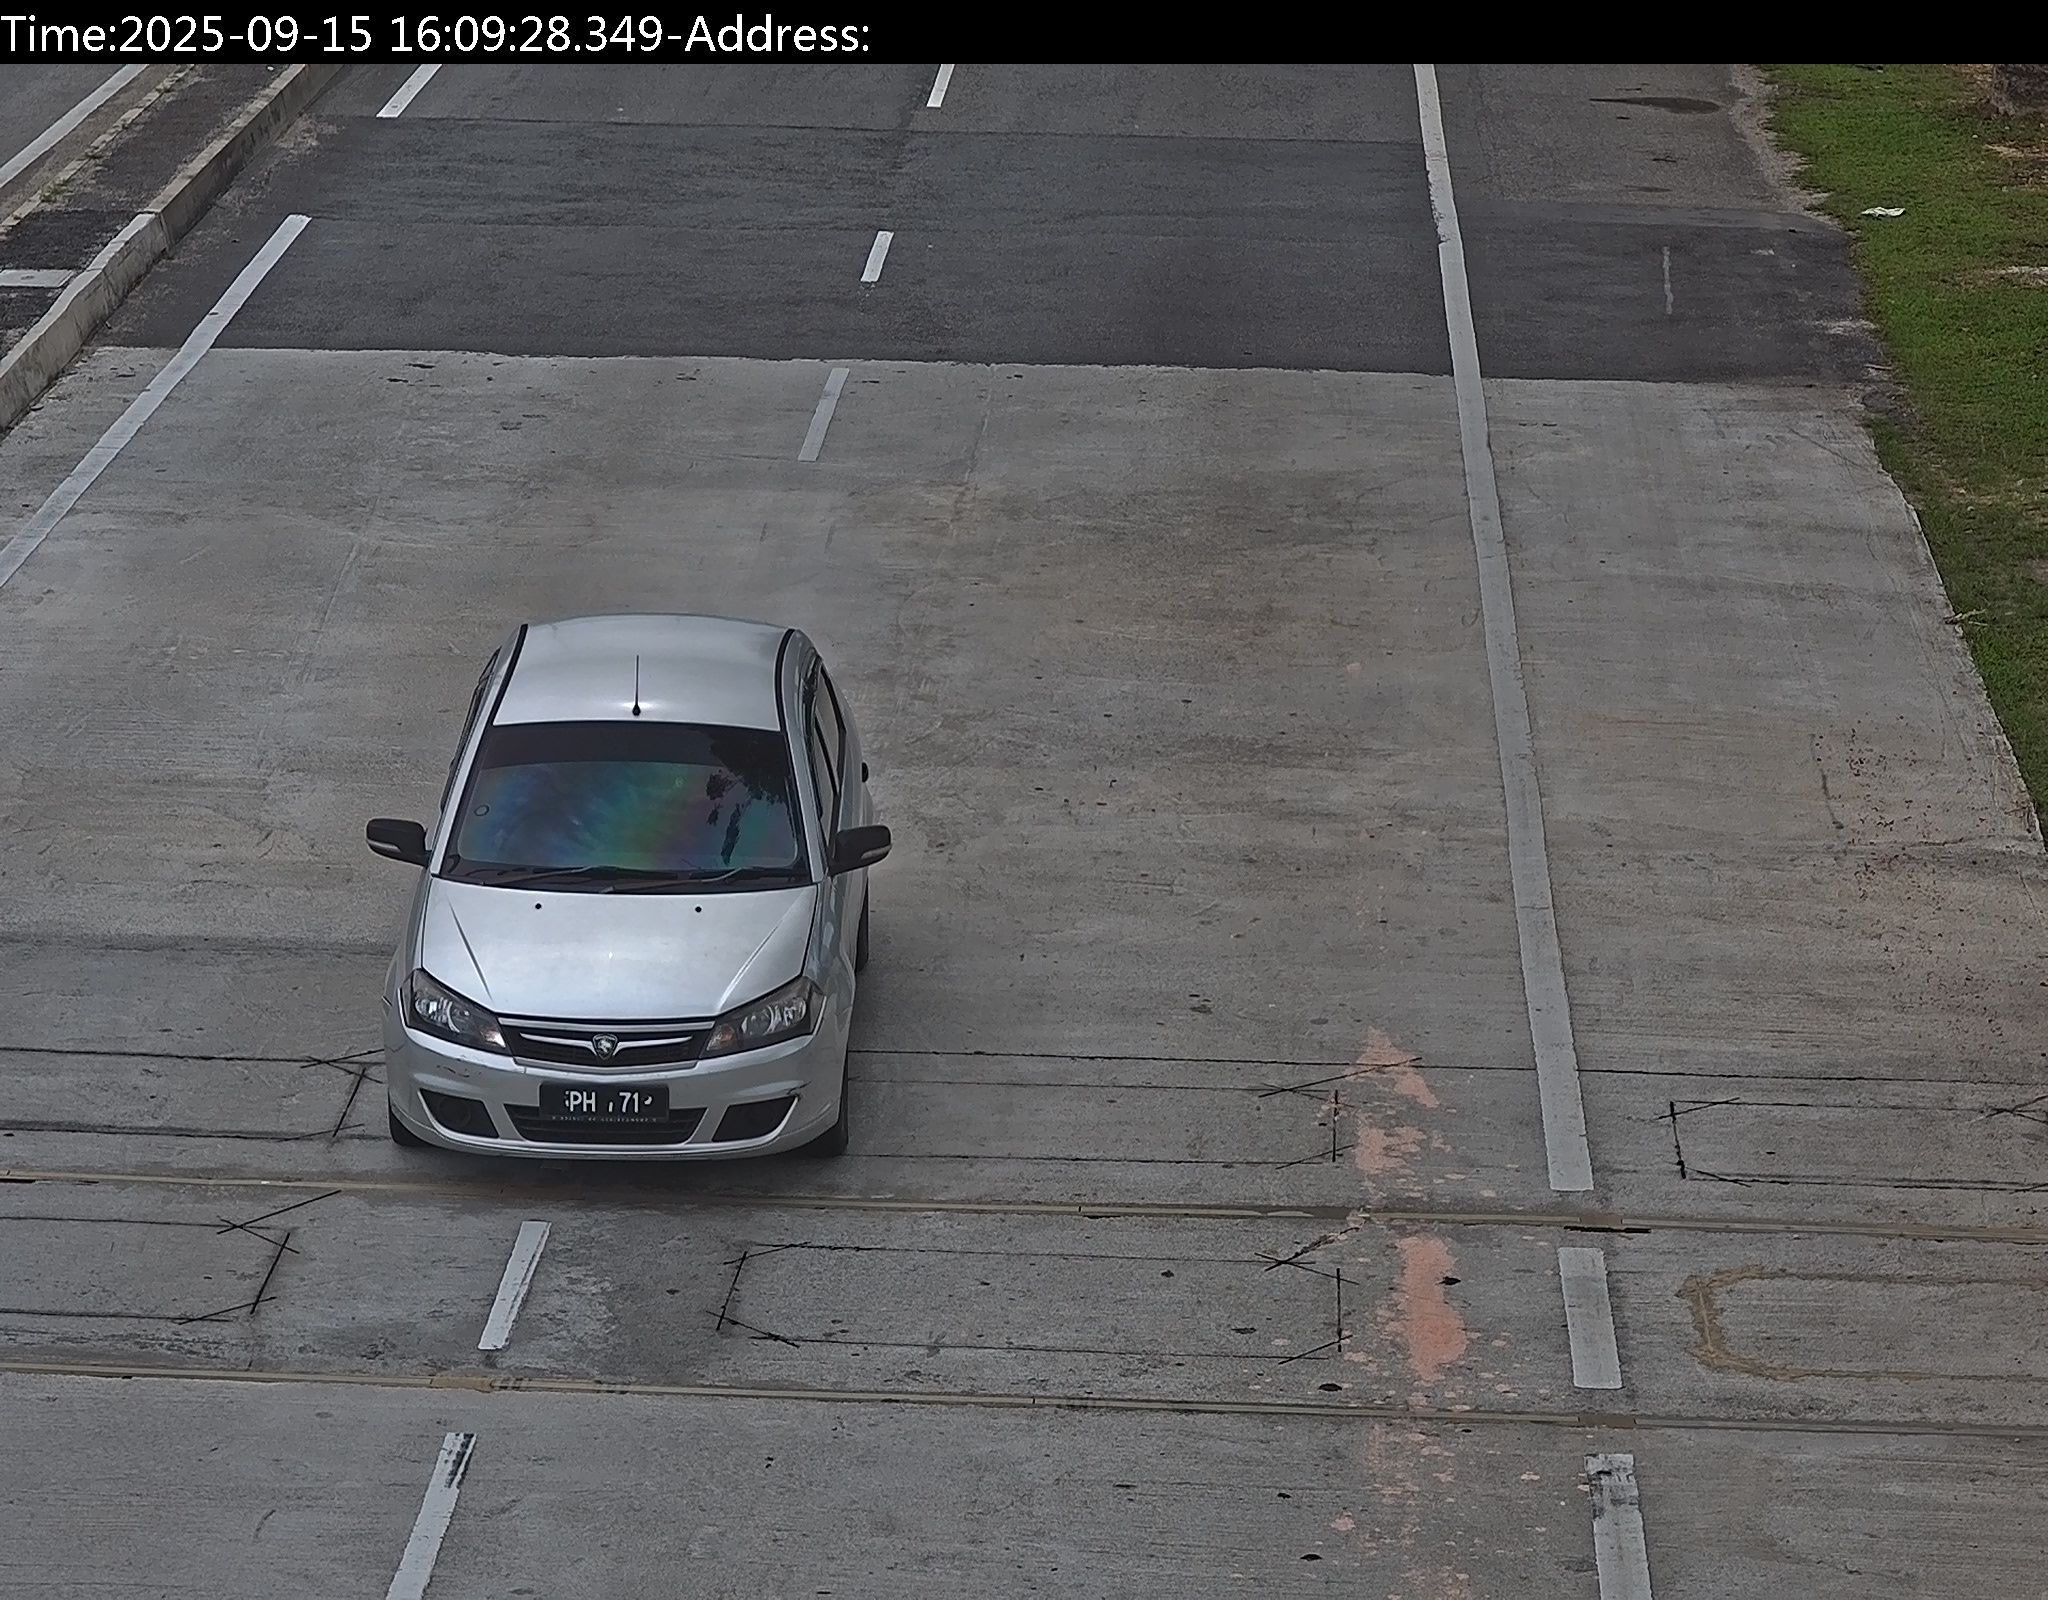class1_lightVehicle: (390, 627, 878, 1167)
license_plate: (555, 1081, 666, 1127)
